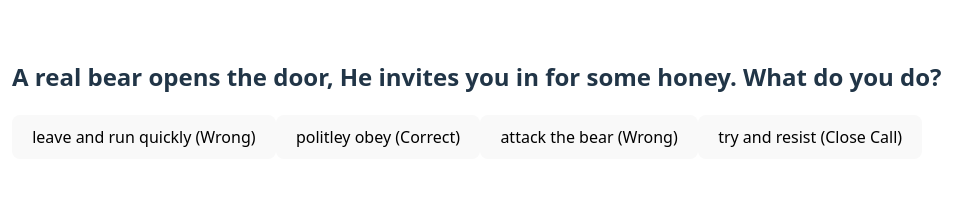
Level1 Component › attack bear option loses all hearts
The image size is (958, 210).
Click the button "attack the bear (Wrong)" at (589, 137), box x1=480 y1=115 x2=698 y2=158
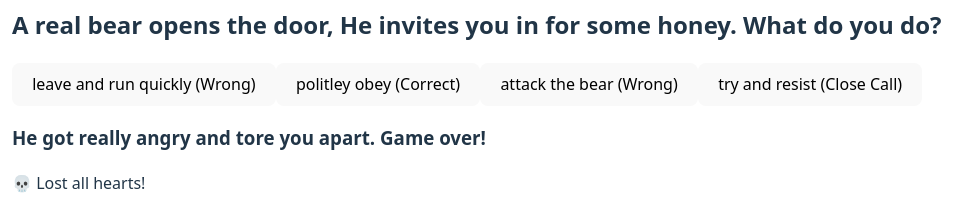
Now the heading "He got really angry and tore you apart. Game over!" is shown, box x1=12 y1=126 x2=486 y2=150
